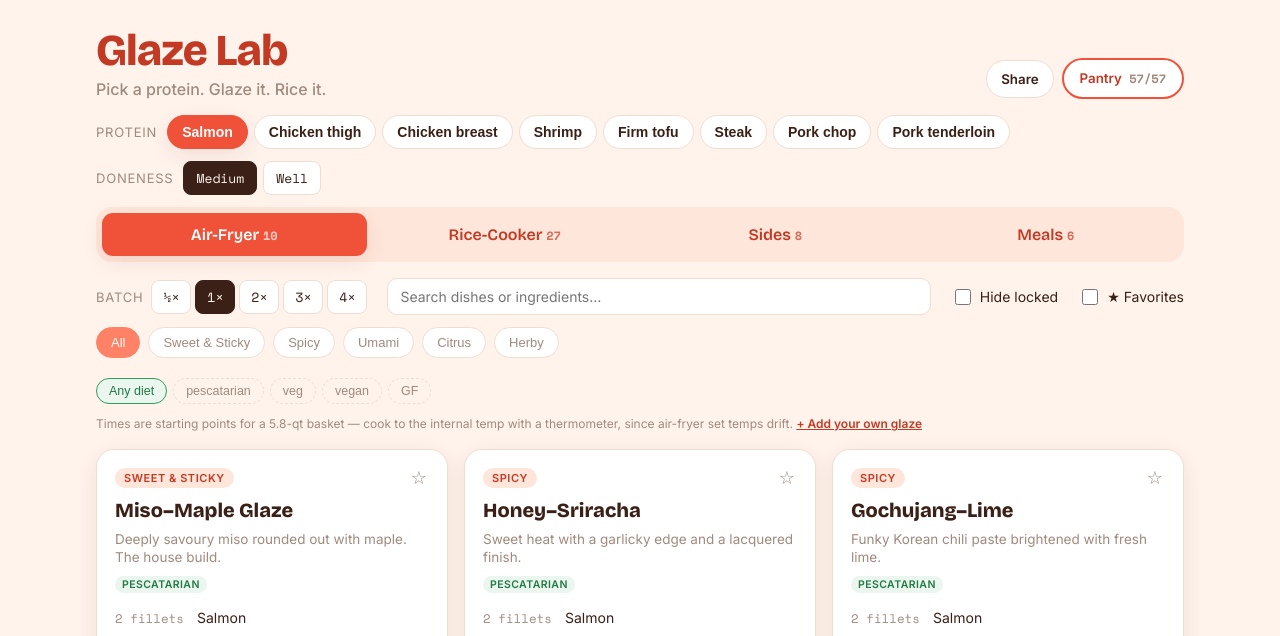
Test: Glaze Lab app › starts a meal plan and shows the live countdown
Click the tab "Meals 6" at [1046, 234], box [914, 213, 1178, 256]
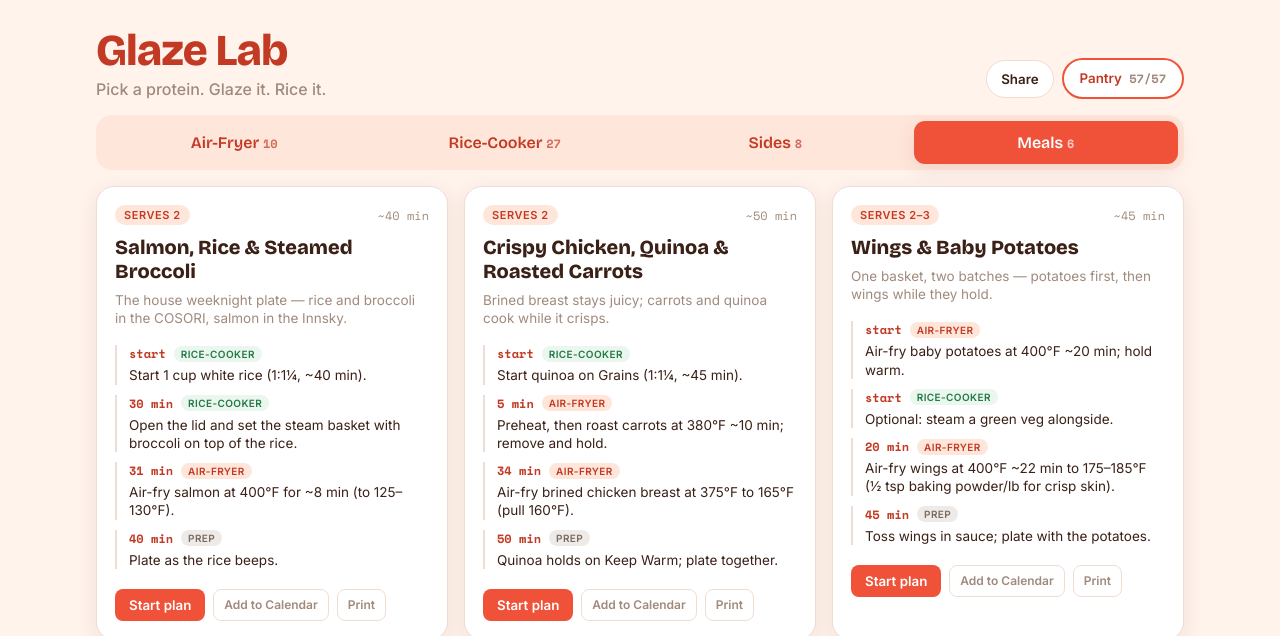
Click the button "Start plan" below "Plate as the rice beeps." at [160, 605], box [115, 589, 205, 621]
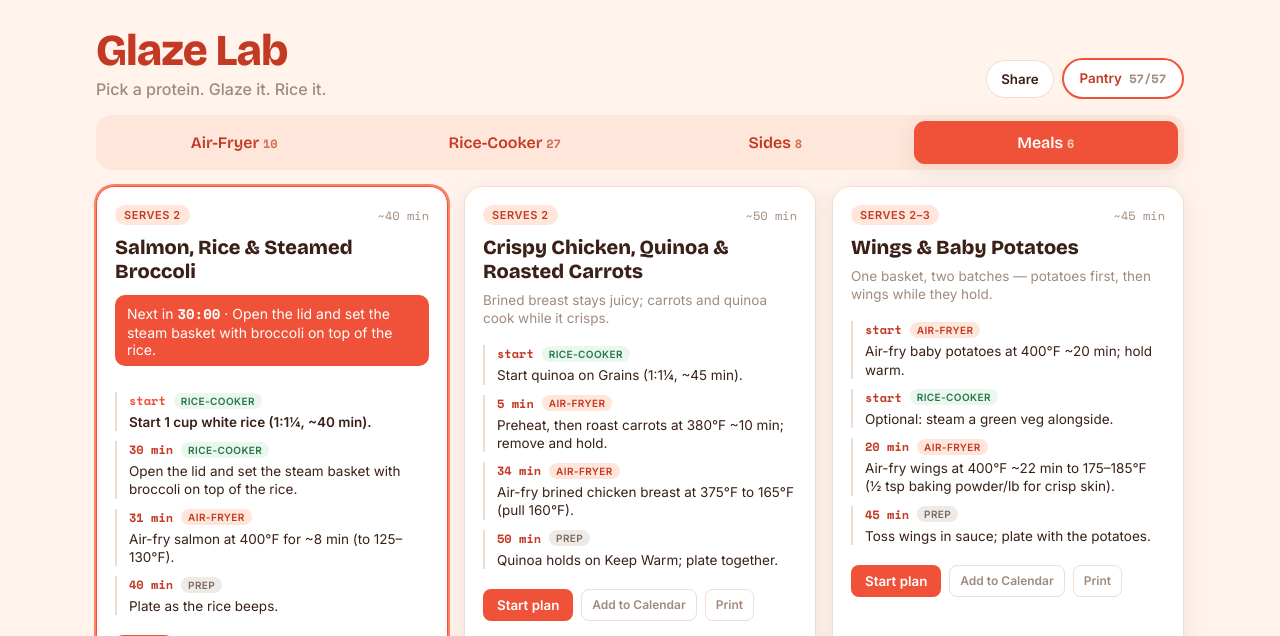
Now the text "Salmon, Rice & Steamed Broccoli" shows "Next in", box [127, 305, 177, 322]
